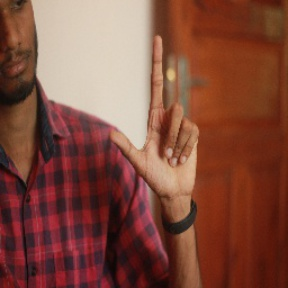L: (109, 35, 203, 195)
